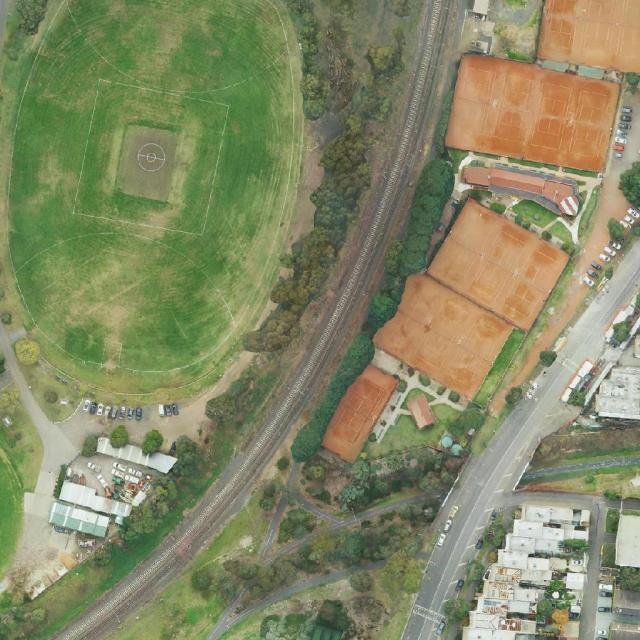building: (458, 158, 584, 218), (94, 434, 178, 477), (58, 480, 134, 520), (46, 500, 111, 540), (596, 581, 640, 639), (595, 365, 640, 419), (615, 515, 640, 567), (405, 392, 437, 431), (472, 0, 489, 16), (481, 20, 495, 35), (478, 41, 489, 53)
greenland: (232, 494, 464, 640), (107, 501, 299, 640), (158, 347, 293, 496), (239, 220, 348, 368), (0, 536, 145, 640), (372, 154, 465, 306), (284, 328, 383, 468), (299, 444, 463, 514), (357, 399, 468, 466), (114, 471, 187, 552), (471, 325, 528, 408), (1, 447, 23, 578), (270, 503, 320, 554), (431, 71, 458, 155), (381, 540, 421, 593), (510, 194, 558, 232), (446, 402, 489, 444), (359, 288, 401, 330), (345, 564, 381, 600), (16, 0, 48, 35), (603, 317, 636, 349), (346, 567, 377, 597), (13, 337, 42, 367), (547, 219, 576, 249), (257, 479, 283, 512), (501, 383, 526, 409), (603, 217, 625, 242), (540, 349, 558, 368), (275, 455, 292, 473), (560, 241, 575, 256), (490, 202, 507, 215), (447, 390, 461, 404), (418, 374, 432, 386), (469, 191, 483, 202), (513, 213, 525, 224), (436, 385, 446, 396), (541, 230, 553, 239), (521, 219, 531, 229)
metalled_road: (385, 350, 596, 619), (499, 447, 640, 583), (558, 232, 640, 371), (520, 455, 640, 481), (279, 461, 322, 524), (326, 500, 402, 535), (258, 495, 289, 562), (401, 611, 445, 640), (268, 535, 312, 561), (403, 491, 429, 505), (622, 500, 640, 510), (606, 500, 621, 509)
